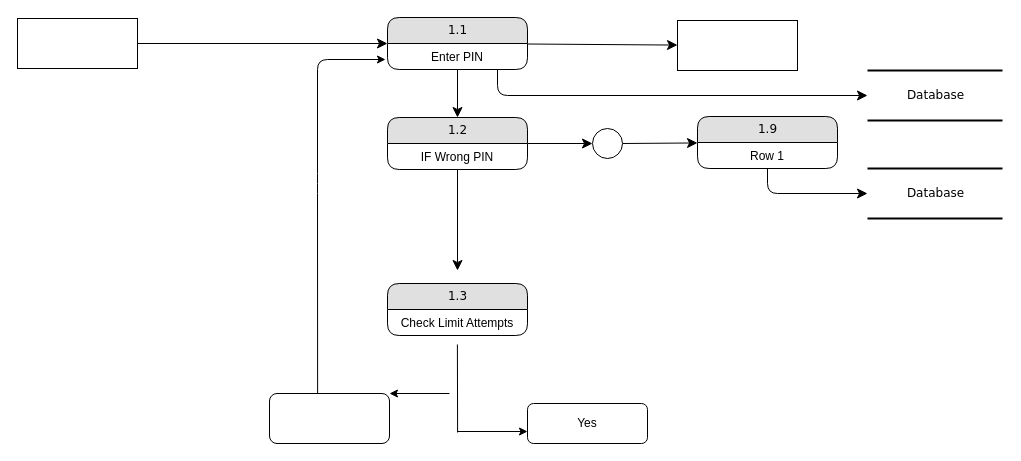
Some shapes in this 1021 by 461 pixel diagram are drawn without their labels. Each missing label, with the centre of its shape:
Debit/Credit Card: the point at 77,43
No: the point at 329,418
Output: the point at 737,45
